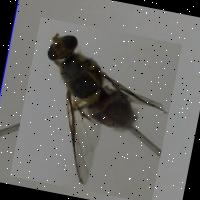Oriental-fruit-fly: (10, 17, 182, 200)
